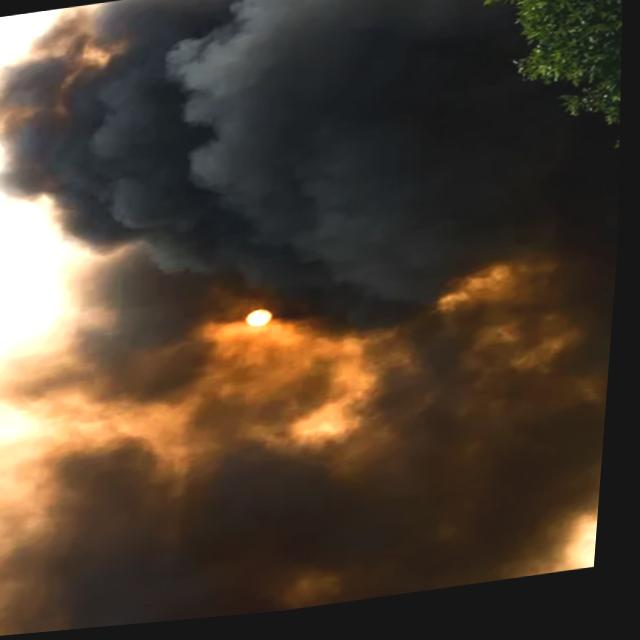Smoke: (0, 0, 571, 391), (0, 313, 619, 640)
